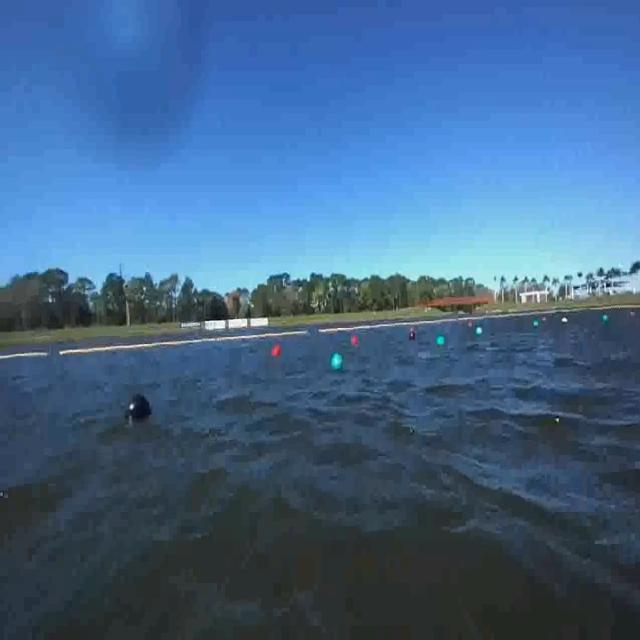black-buoy: (127, 395, 153, 423)
green-buoy: (332, 352, 346, 371), (436, 336, 444, 348), (602, 315, 608, 323)
red-buoy: (347, 328, 361, 350), (273, 346, 282, 357)
